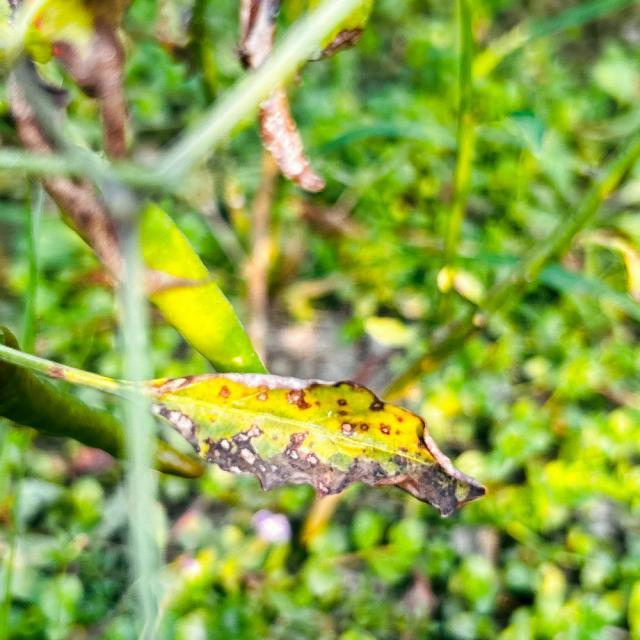Bercak Daun Serkospora: (151, 372, 492, 522)
